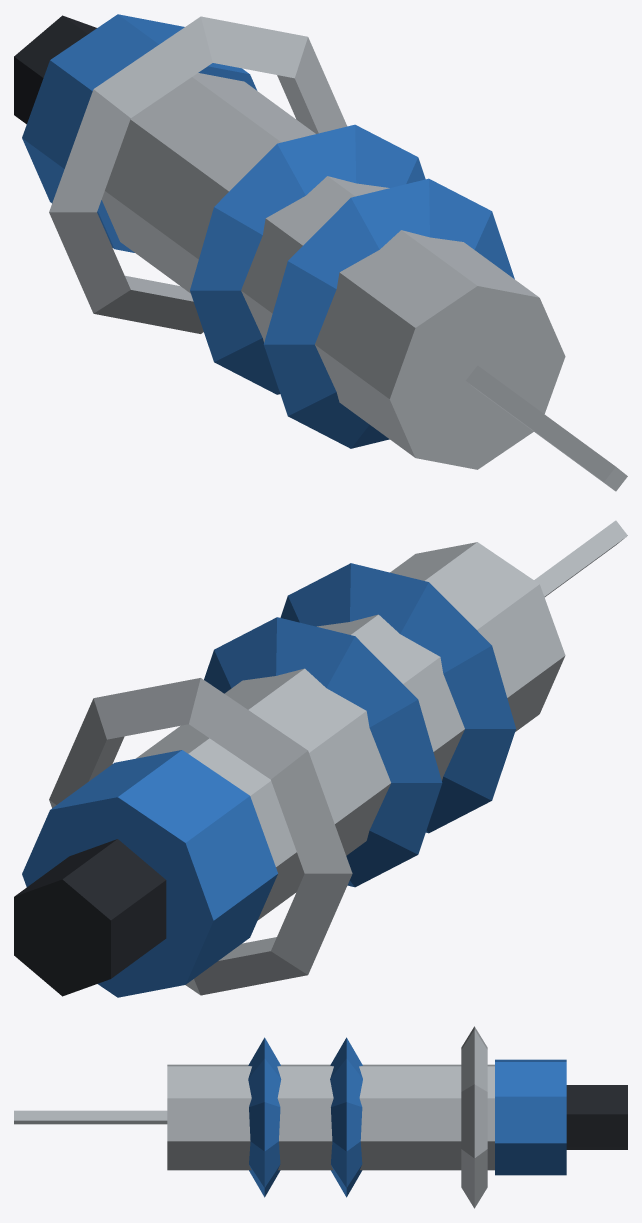
The model's file is stim-intelligence.glb.
3 renders of one model, top to bottom at view 1: azimuth 30°, elevation 25°; view 2: azimuth 150°, elevation 25°; view 3: azimuth 270°, elevation 25°, orthographic. The views are drawn at different scales.
Visible parts, largest first — view 1: m; view 2: m; view 3: m.
Boxes of the visible parts, x1,y1,x2,y2 form: m: [14, 14, 627, 491]; m: [14, 520, 627, 997]; m: [14, 1026, 627, 1208].
Size of the model in its own units: 0.0283 by 0.0283 by 0.0893.
